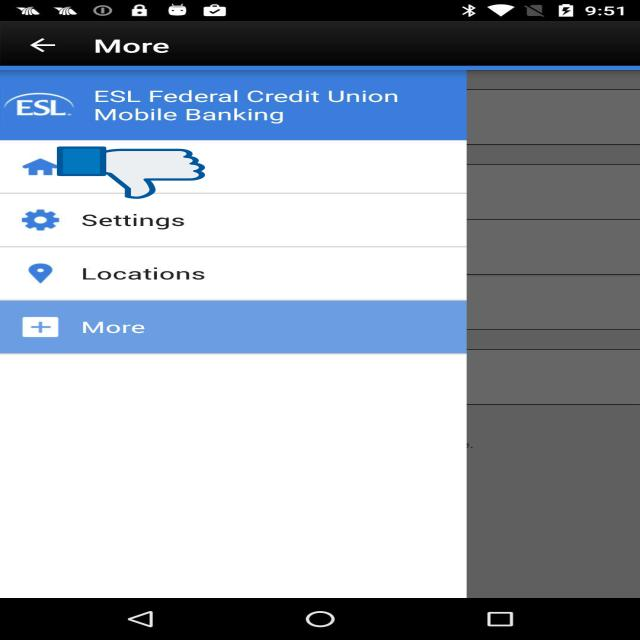obstruction: (57, 145, 205, 200)
